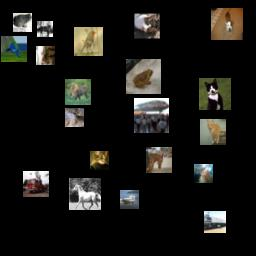airplane: (134, 98, 169, 133), (1, 36, 27, 62)
bird: (74, 27, 103, 56)
cat: (199, 78, 231, 110), (134, 13, 160, 39), (200, 119, 226, 145), (90, 151, 109, 170), (194, 164, 213, 183), (36, 46, 55, 65)
deer: (65, 79, 91, 105), (65, 108, 84, 127)
dog: (211, 8, 243, 40)
frog: (126, 59, 161, 94), (13, 13, 32, 32)
ship: (120, 190, 139, 209)
truck: (23, 171, 49, 197), (204, 211, 226, 233)
